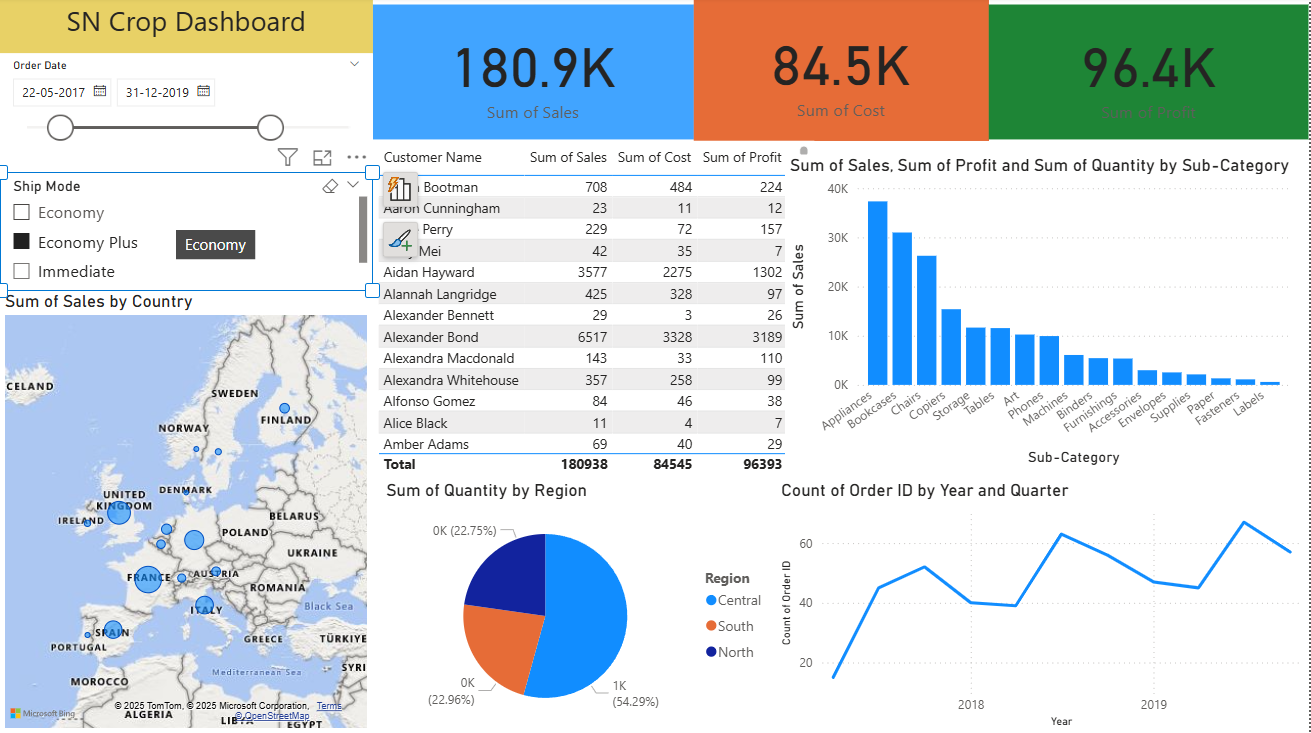

Layout of this report page (visuals, bound fields, positions):
{"tool":"powerbi","page":{"name":"Page 1","canvas":[1280,720],"ordinal":0},"visuals":[{"type":"card","fields":{"Values":["List of Orders.Sales"]},"box":[364.4,8.6,314.3,132.1],"z":0},{"type":"card","fields":{"Values":["List of Orders.Cost"]},"box":[678.7,8.6,288.6,132.1],"z":1000},{"type":"card","fields":{"Values":["List of Orders.Profit"]},"box":[967.3,7.3,313,132.1],"z":2000},{"type":"tableEx","fields":{"Values":["List of Orders.Customer Name","List of Orders.Sales","List of Orders.Cost","List of Orders.Profit"]},"box":[364.4,140.6,431.7,331.4],"z":3000},{"type":"clusteredColumnChart","fields":{"Y":["List of Orders.Sales"],"Category":["List of Orders.Sub-Category"]},"box":[767.9,154.1,498.9,309.4],"z":4000},{"type":"lineChart","fields":{"Category":["List of Orders.Order Date.Variation.Date Hierarchy.Year","List of Orders.Order Date.Variation.Date Hierarchy.Quarter"],"Y":["List of Orders.Order ID"]},"box":[759.4,472,520.9,248.2],"z":5000},{"type":"pieChart","fields":{"Y":["List of Orders.Quantity"],"Category":["List of Orders.Region"]},"box":[373,472,386.4,248.2],"z":6000},{"type":"map","fields":{"Category":["List of Orders.Country"],"Size":["List of Orders.Sales"]},"box":[0,287.4,364.4,432.9],"z":7000},{"type":"textbox","box":[0,0,364.4,55],"z":8000},{"type":"slicer","fields":{"Values":["List of Orders.Ship Mode"]},"box":[0,171.2,364.4,116.2],"z":9000},{"type":"slicer","fields":{"Values":["List of Orders.Order Date"]},"box":[0,55,364.4,116.2],"z":10000}]}

Visuals, with their boxes in screenshot pixels (x1, y1, x2, y2), scaled from the page's 1280x720 canvas onto the 1311x733 screenshot:
card - List of Orders.Sales: box(373, 9, 695, 143)
card - List of Orders.Cost: box(695, 9, 991, 143)
card - List of Orders.Profit: box(991, 7, 1310, 142)
tableEx - List of Orders.Customer Name x List of Orders.Sales: box(373, 143, 815, 481)
clusteredColumnChart - List of Orders.Sales x List of Orders.Sub-Category: box(786, 157, 1297, 472)
lineChart - List of Orders.Order Date.Variation.Date Hierarchy.Year x List of Orders.Order Date.Variation.Date Hierarchy.Quarter: box(778, 481, 1310, 732)
pieChart - List of Orders.Quantity x List of Orders.Region: box(382, 481, 778, 732)
map - List of Orders.Country x List of Orders.Sales: box(0, 293, 373, 732)
textbox: box(0, 0, 373, 56)
slicer - List of Orders.Ship Mode: box(0, 174, 373, 293)
slicer - List of Orders.Order Date: box(0, 56, 373, 174)
